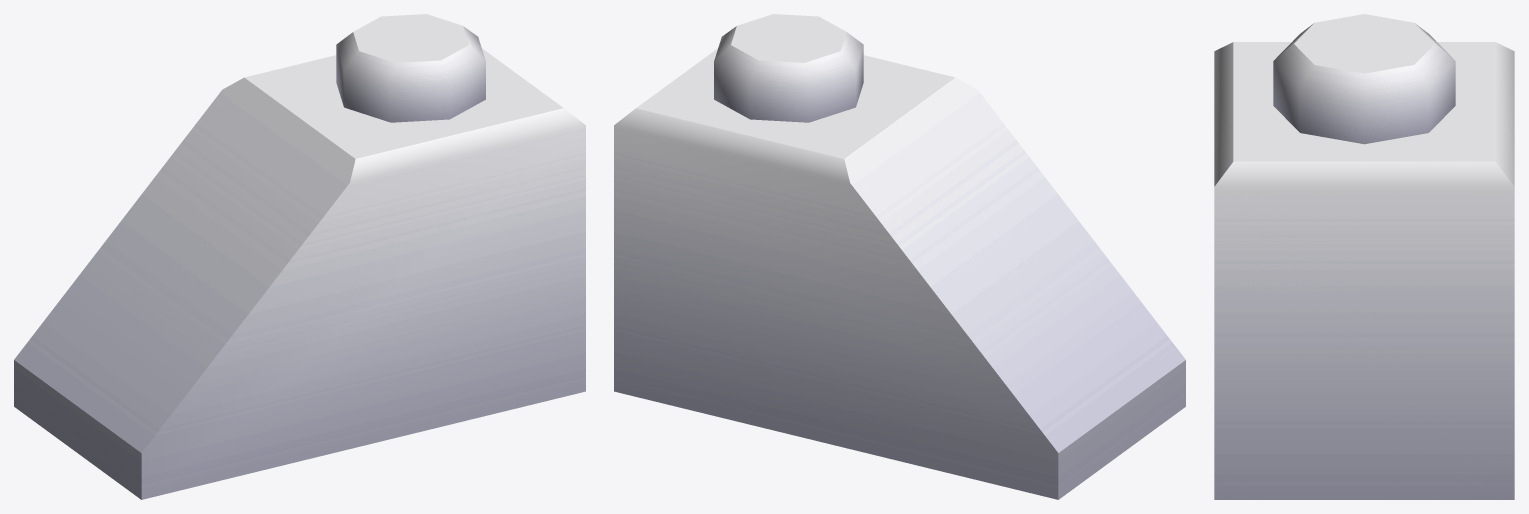
The model's file is round-hq-brick-slope-1x2.glb.
3 views of the same model, side by side, from view 1: azimuth 30°, elevation 25°; view 2: azimuth 150°, elevation 25°; view 3: azimuth 270°, elevation 25° (orthographic). The views are drawn at different scales.
Visible parts, largest first — view 1: round-hq-brick-slope-1x2; view 2: round-hq-brick-slope-1x2; view 3: round-hq-brick-slope-1x2.
Boxes of the visible parts, bbox=[...] form: round-hq-brick-slope-1x2: bbox=[14, 14, 585, 499]; round-hq-brick-slope-1x2: bbox=[614, 14, 1185, 499]; round-hq-brick-slope-1x2: bbox=[1214, 14, 1514, 499].
Size of the model in its own units: 0.159 by 0.114 by 0.079.
1 material, 1 textured.
